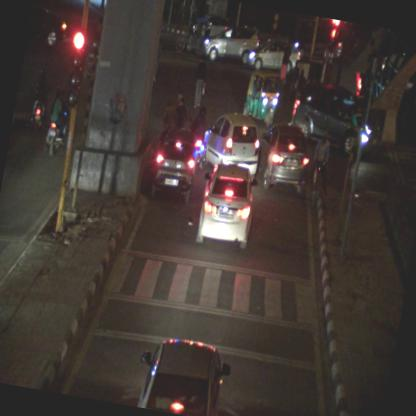car: (132, 331, 235, 415), (294, 79, 386, 157), (192, 160, 262, 254), (198, 107, 265, 179), (252, 121, 315, 193), (151, 125, 202, 201), (200, 18, 261, 70), (245, 32, 302, 77)
motorcycle: (43, 88, 72, 157), (184, 104, 212, 170), (26, 61, 52, 128)
